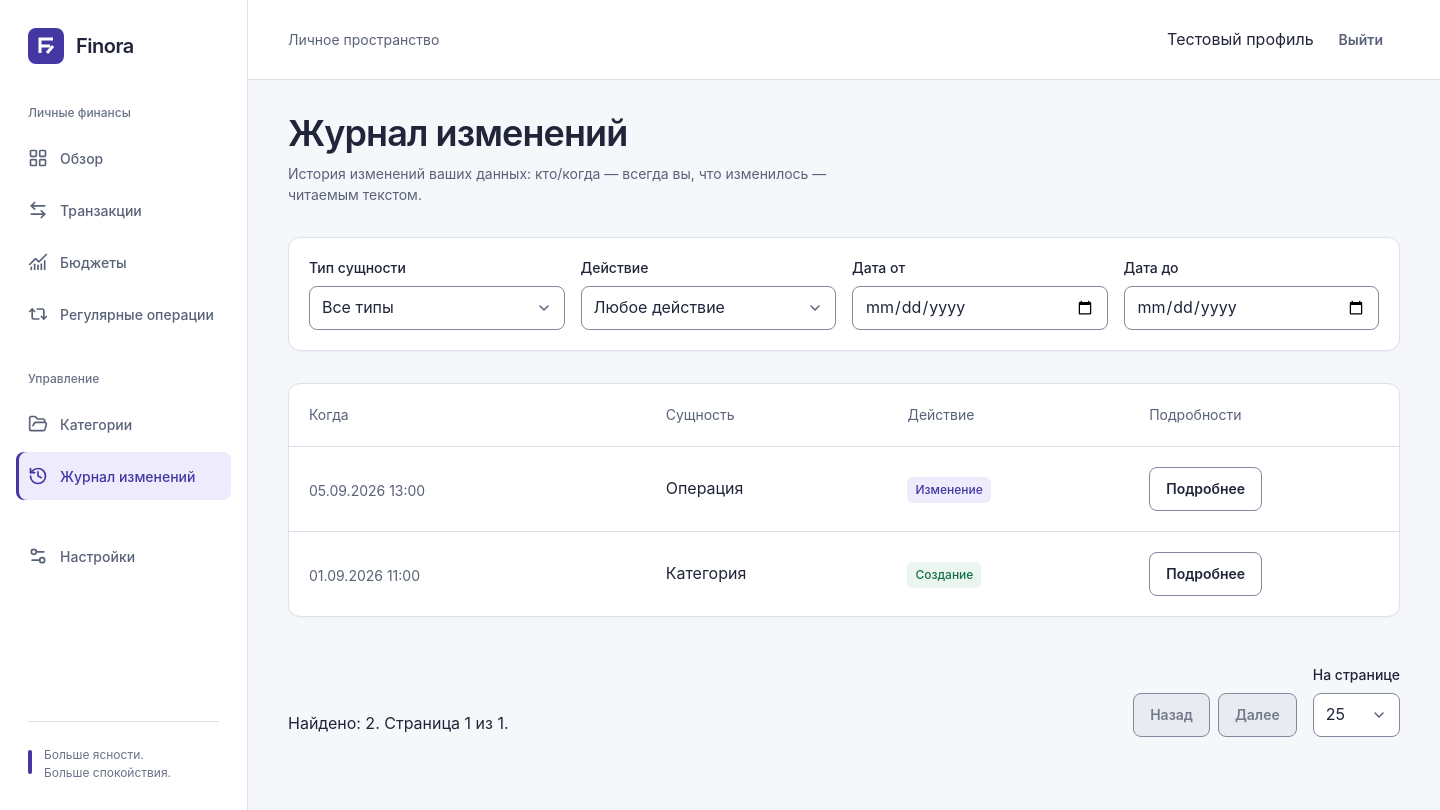
Test: Журнал изменений: деталь CREATE — только «после», без «до»
The width and height of the screenshot is (1440, 810).
Expected: the text "Категория" is shown, x1=666 y1=563 x2=746 y2=583
Click the button "Подробнее" in the row of "01.09.2026 11:00". click: point(1206, 574)
box: x1=1149 y1=552 x2=1262 y2=596
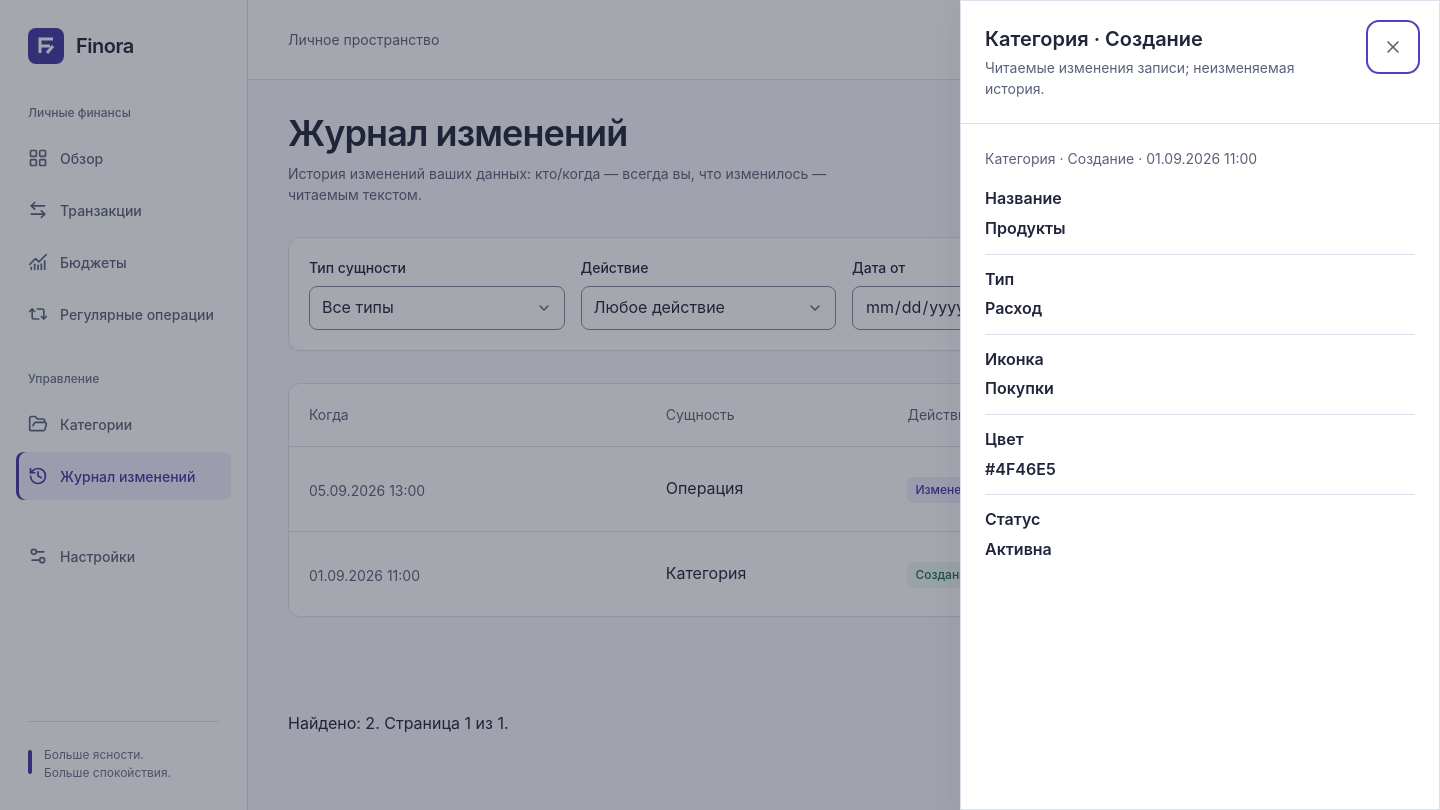
Expected: the text "Продукты" is shown, x1=985 y1=218 x2=1066 y2=238
